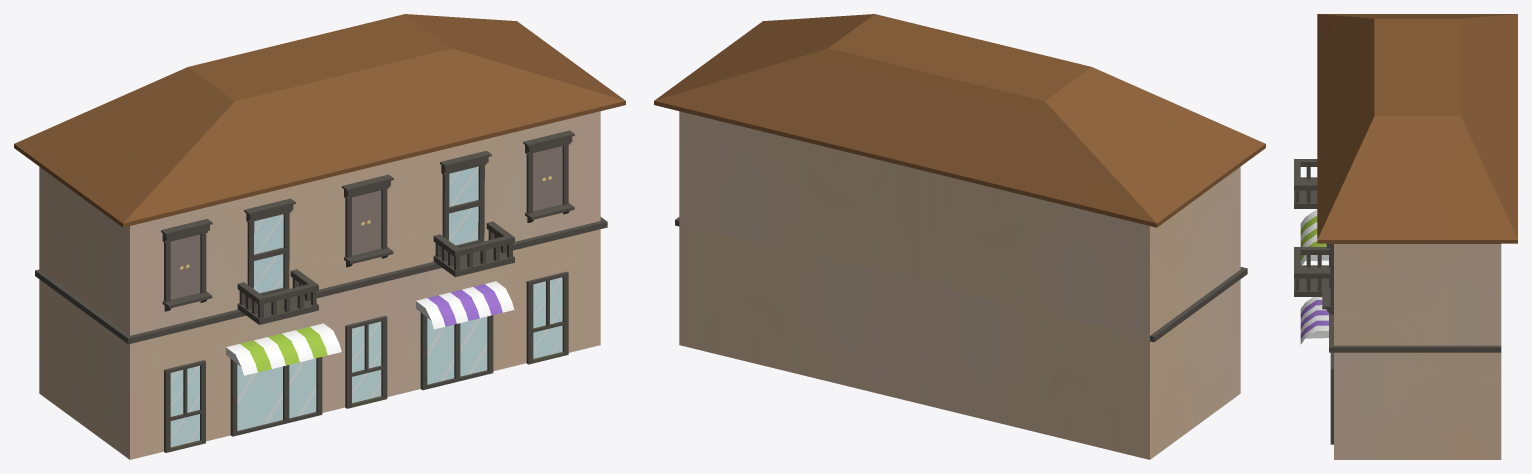
File: house-1.fbx
The picture shows the model from 3 angles, left to right: view 1: azimuth 30°, elevation 25°; view 2: azimuth 150°, elevation 25°; view 3: azimuth 270°, elevation 25°; orthographic projection. The views are drawn at different scales.
Parts seen in each view (by area): view 1: house1; view 2: house1; view 3: house1.
Part boxes in pixels (box(x1,y1,x2,y2)): house1: box(14, 14, 625, 459); house1: box(654, 14, 1265, 459); house1: box(1294, 14, 1517, 459).
Bounding box in the file's own units: 1295 × 767 × 542.
